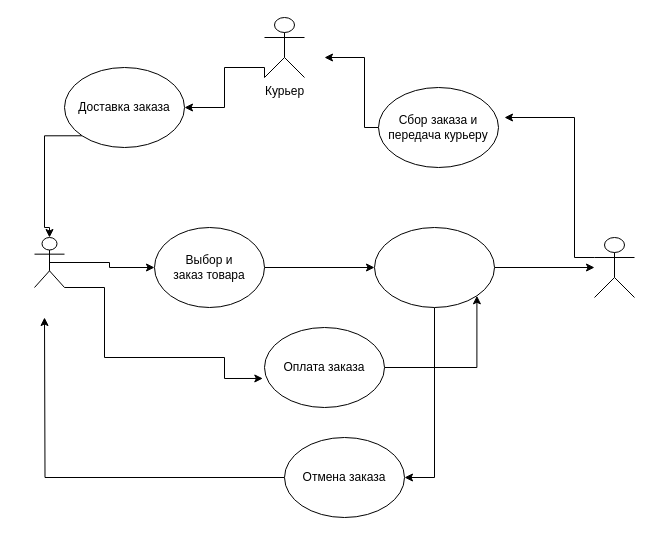
Some shapes in this 659 by 535 pixel diagram are drawn without their labels. The shapes that lost their labels are listed below. From the top down, each one's centre as x and y in pixels, then its label:
At (x=49, y=262): "Покупатель".
At (x=434, y=267): "Подтверждение заказа".
At (x=614, y=267): "Продавец".
